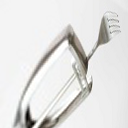Fork: (73, 2, 128, 65)
